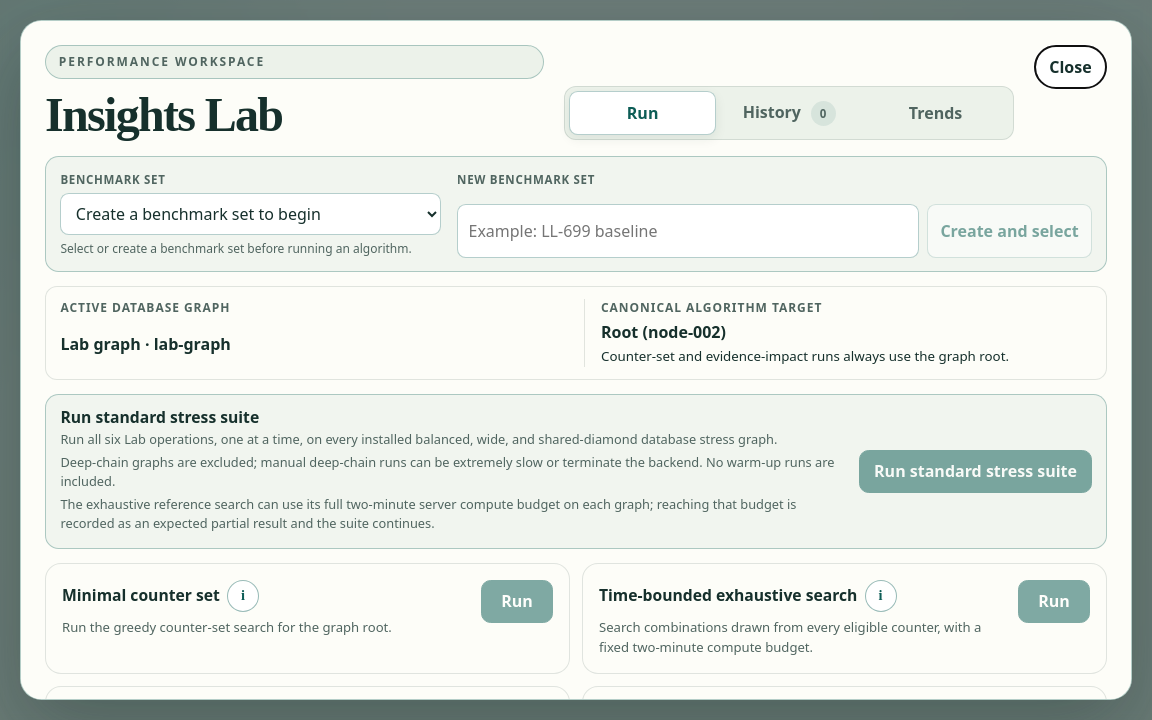
Test: InsightsLabDialog › retains the evaluated empty set when the time budget expires after problem preparation
Click the tab "History 0".
click(789, 113)  # box left=716, top=91, right=862, bottom=135
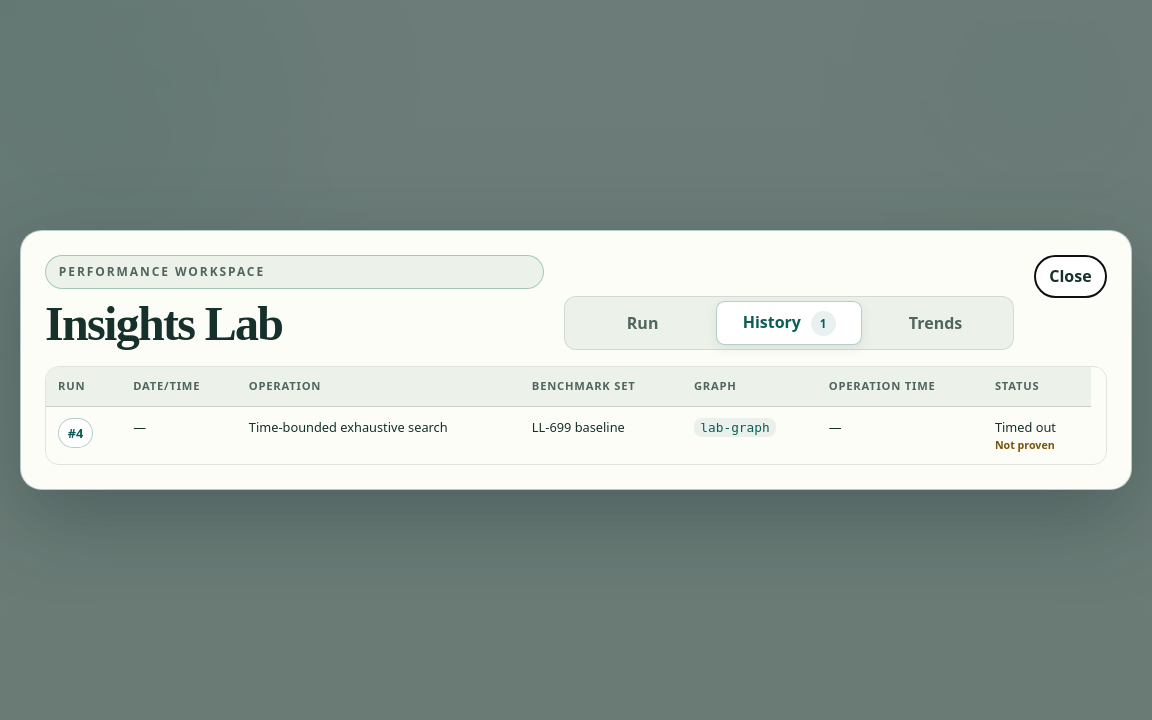
Click the button named "View run 4".
click(76, 433)  # box left=58, top=418, right=93, bottom=448
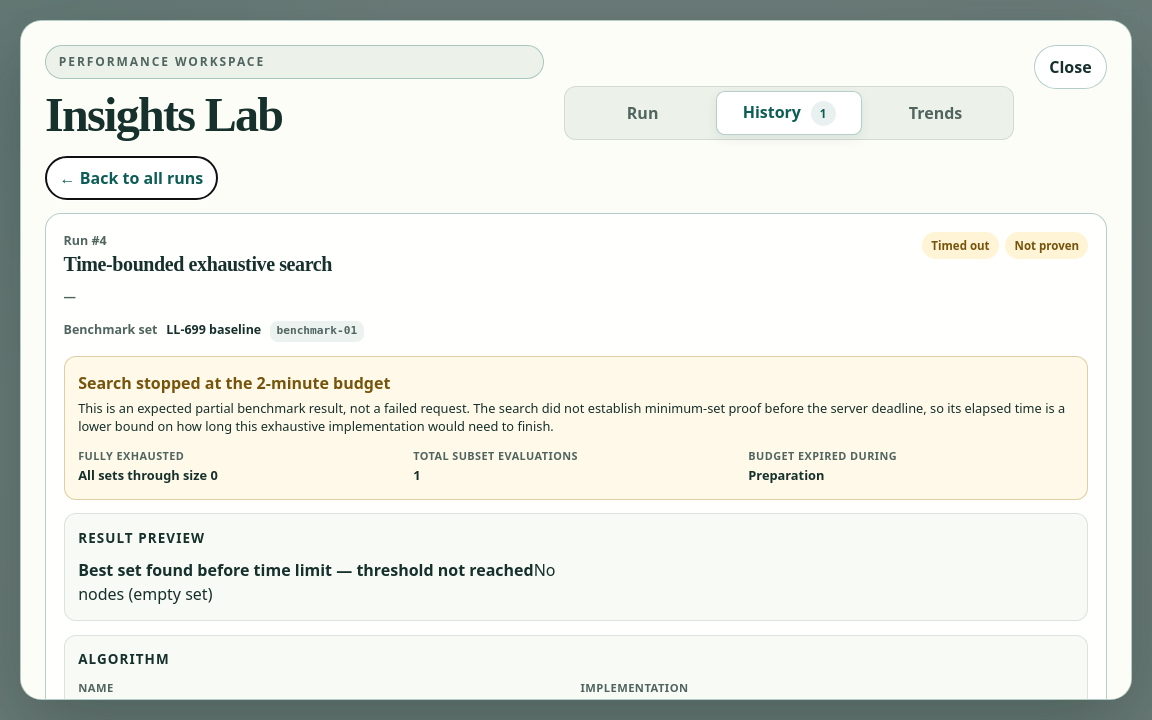
Now the text "Best set found before time limit — threshold not reached" is shown, box left=78, top=559, right=534, bottom=581
Now the text "No nodes (empty set)" is shown, box left=78, top=559, right=556, bottom=605
